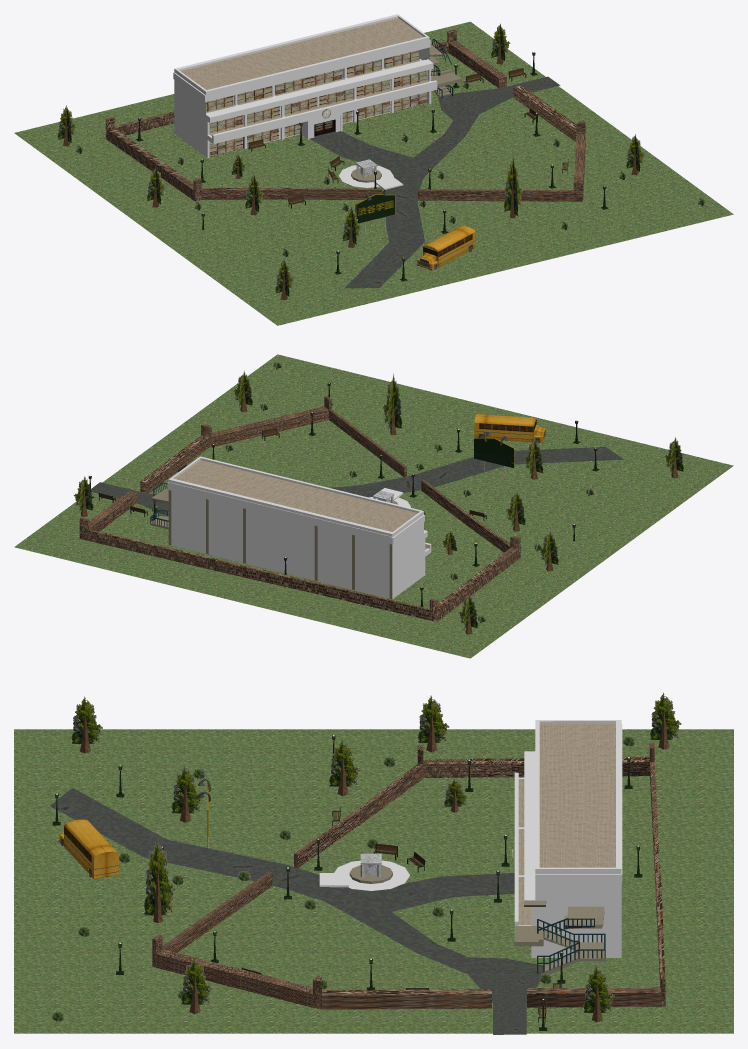
File: ScenaryModelFixed.fbx
The picture shows the model from 3 angles, top to bottom: view 1: azimuth 30°, elevation 25°; view 2: azimuth 150°, elevation 25°; view 3: azimuth 270°, elevation 25°; orthographic projection. The views are drawn at different scales.
Visible parts, largest first — view 1: planta central, Base escuela, Barrera Escuela, Camino, Camion, Letrero, escaleras, ventanas.004, Arboles1.007, ventanas.002, ventanas.007, ventanas.003 (+5 smaller); view 2: planta central, Base escuela, Barrera Escuela, Camino, Camion, Letrero, Arboles1.007, escaleras, Arboles1.008; view 3: planta central, Base escuela, Barrera Escuela, Camino, escaleras, Camion, Arboles1.007, Arboles1.008, Arboles1.009, Arboles1.001, Arboles1.005, Arboles1.011 (+3 smaller).
Boxes of the visible parts, box(x1,y1,x2,y2) form: planta central: box(14, 21, 733, 325); Base escuela: box(173, 14, 437, 157); Barrera Escuela: box(105, 29, 585, 201); Camino: box(310, 76, 560, 288); Camion: box(416, 225, 475, 270); Letrero: box(355, 190, 395, 235); escaleras: box(425, 38, 461, 98); ventanas.004: box(209, 92, 427, 155); Arboles1.007: box(503, 157, 523, 218); ventanas.002: box(209, 70, 427, 133); ventanas.007: box(237, 59, 381, 103); ventanas.003: box(247, 79, 390, 123); planta central: box(14, 354, 733, 658); Base escuela: box(167, 456, 431, 599); Barrera Escuela: box(79, 395, 520, 621); Camino: box(91, 447, 624, 516); Camion: box(474, 414, 546, 443); Letrero: box(474, 431, 514, 479); Arboles1.007: box(382, 373, 402, 435); escaleras: box(150, 482, 168, 529); Arboles1.008: box(233, 370, 252, 412); planta central: box(14, 729, 733, 1033); Base escuela: box(514, 720, 622, 957); Barrera Escuela: box(152, 743, 665, 1009); Camino: box(50, 787, 543, 1034); escaleras: box(514, 900, 605, 974); Camion: box(58, 819, 118, 878); Arboles1.007: box(143, 839, 175, 923); Arboles1.008: box(181, 957, 212, 1013); Arboles1.009: box(583, 965, 614, 1022); Arboles1.001: box(329, 739, 360, 796); Arboles1.005: box(417, 695, 449, 752); Arboles1.011: box(71, 696, 102, 753).
Bounding box in the file's own units: 9757 × 1691 × 9715.
